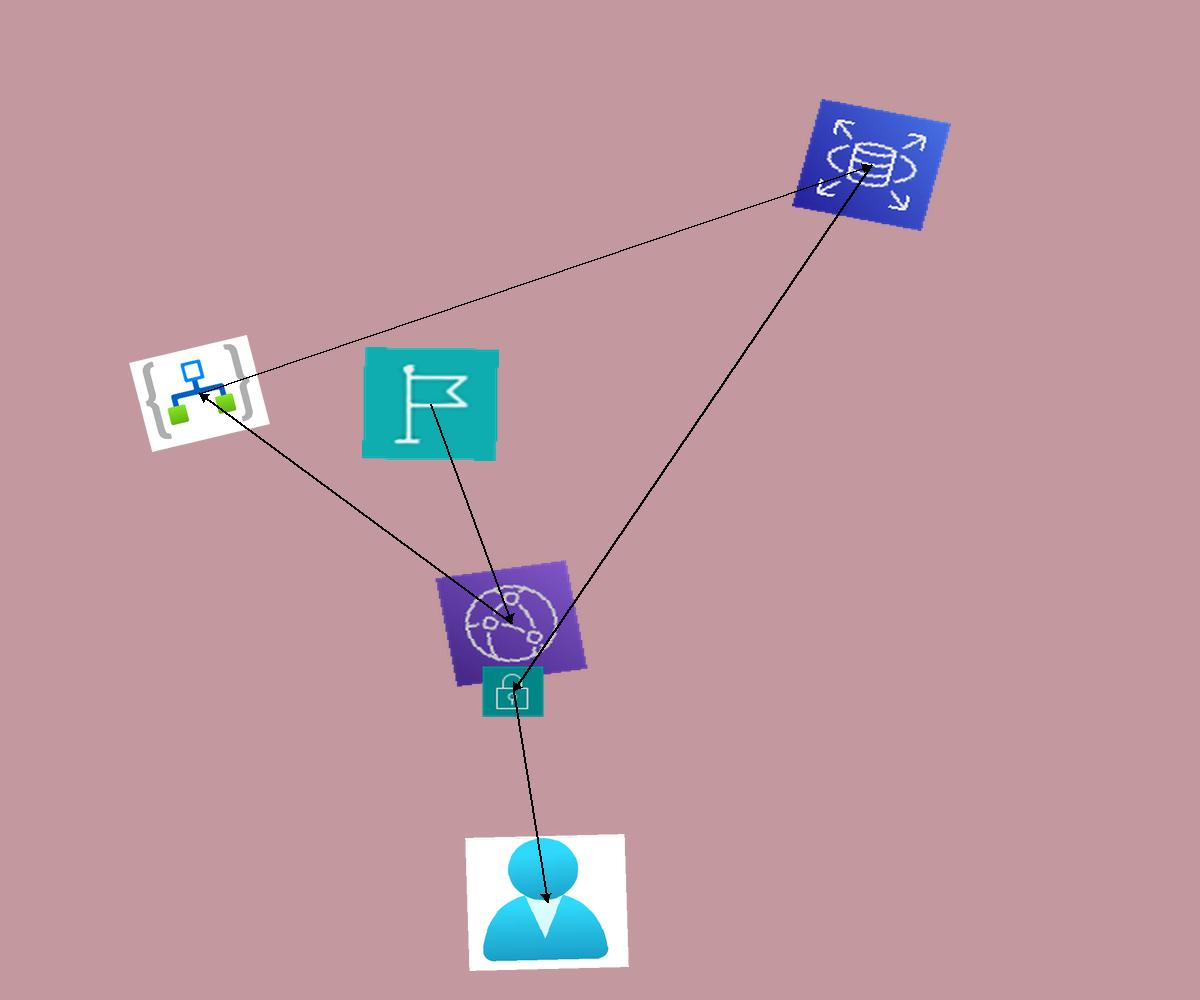AWS-CloudFront: (434, 559, 589, 688)
AWS-Private-subnet: (481, 665, 545, 718)
AWS-RDS: (792, 99, 951, 231)
AWS-Region: (362, 347, 499, 461)
Azure_integration-204-Logic-Apps: (129, 335, 270, 452)
Azure_users: (465, 834, 629, 971)
